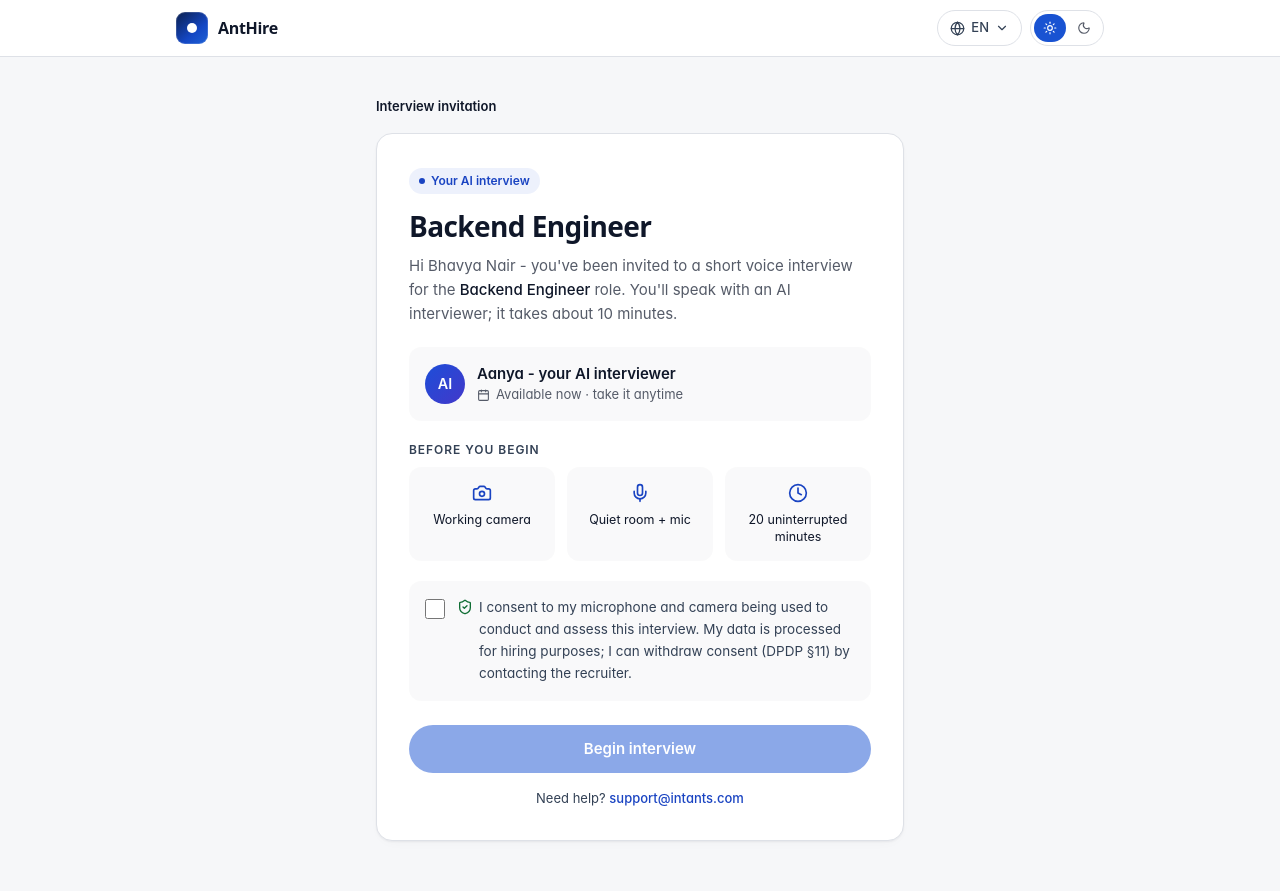
Test case: InterviewInvite - consent gate › keeps Begin disabled until consent is given
The image size is (1280, 891).
Expected: the heading "Backend Engineer" is shown, [409,206,651,244]
Expected: the button "Begin interview" is disabled, [409,725,871,773]
Click the checkbox.
click(435, 609)  # box [425,599,445,619]
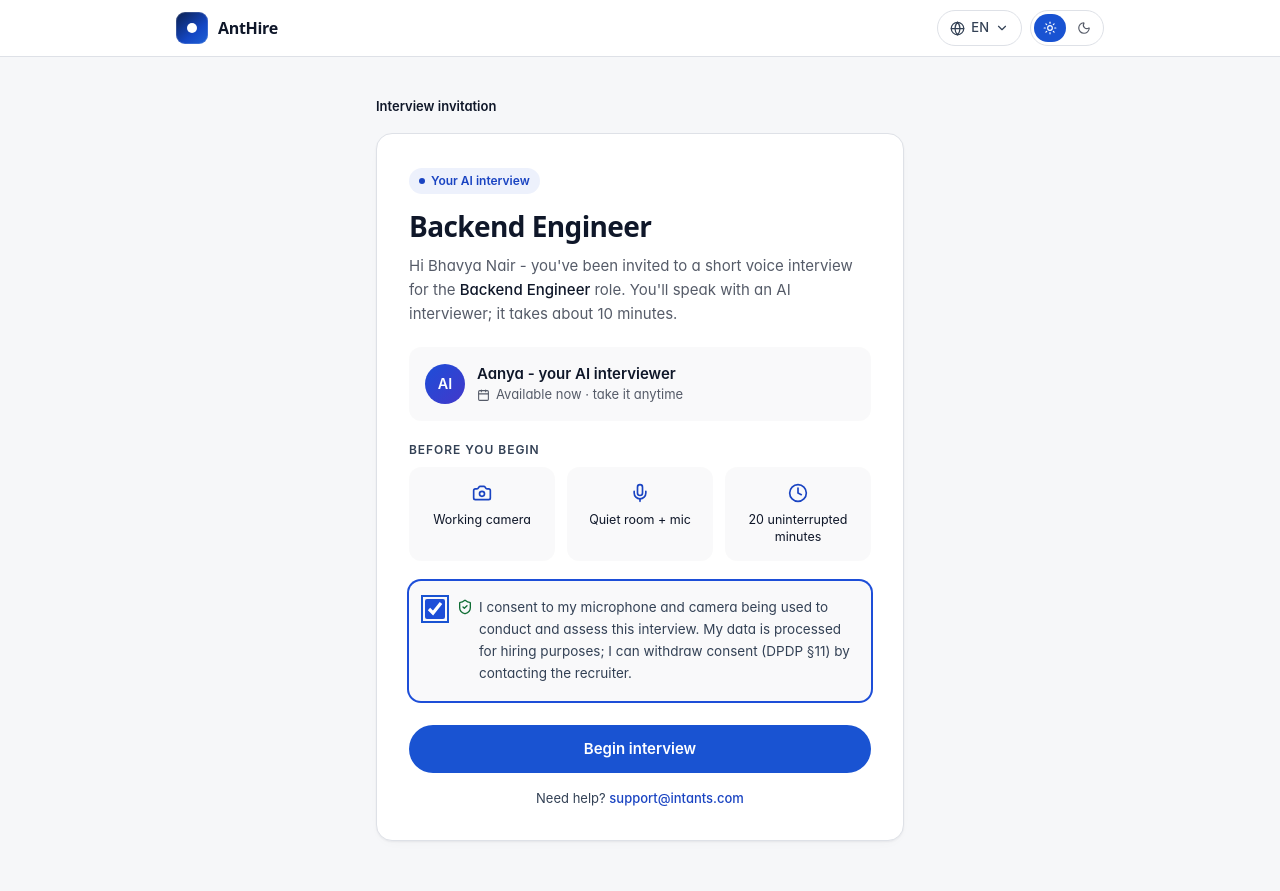
Now the button "Begin interview" is enabled, box [409,725,871,773]
